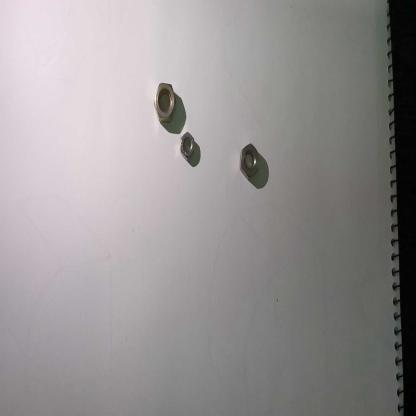NUTS: (154, 78, 178, 126), (239, 141, 261, 183), (179, 128, 196, 164)
